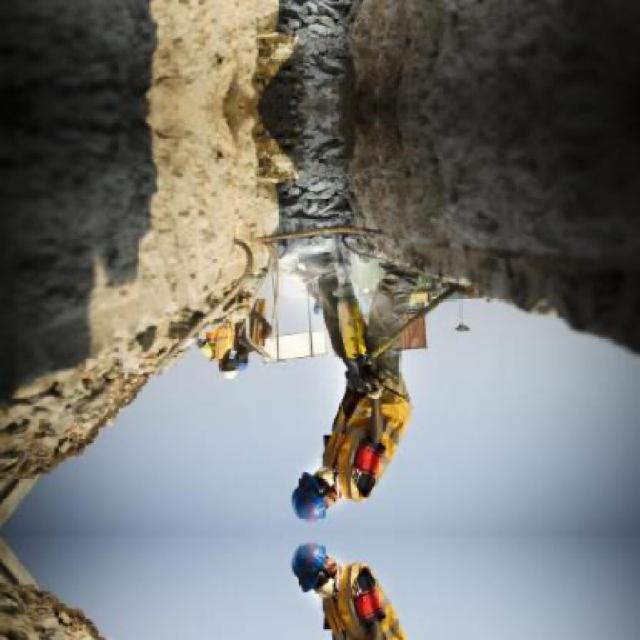con casco: (272, 442, 362, 528)
